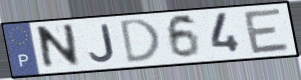4: (209, 10, 246, 58)
6: (164, 13, 204, 62)
D: (119, 17, 163, 66)
E: (241, 6, 293, 56)
J: (87, 23, 117, 64)
N: (37, 22, 82, 73)
